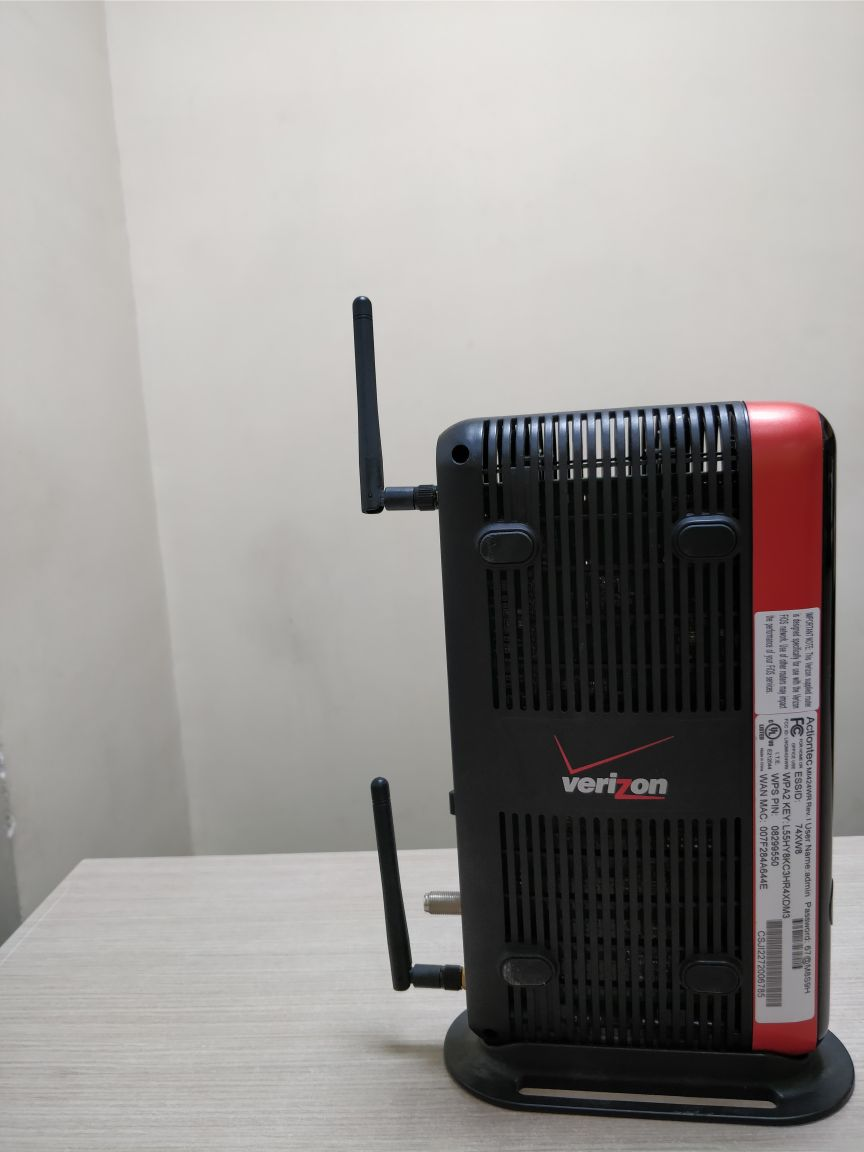Verizon Router: (313, 258, 864, 1120)
